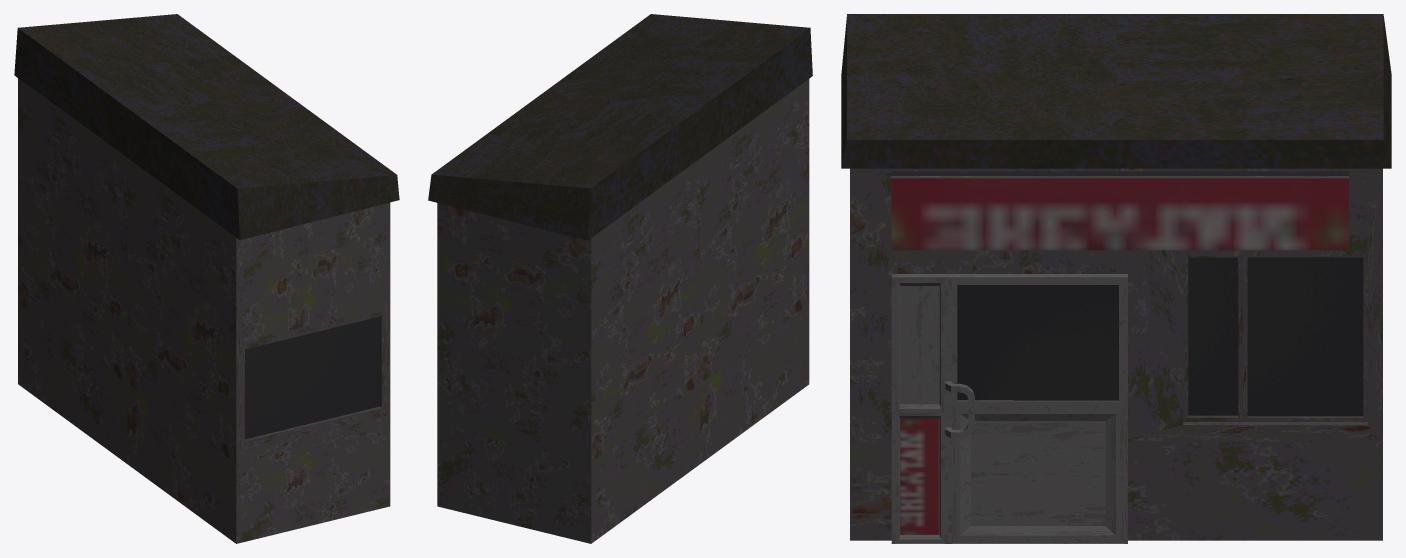
Rendered from StreetEnvirenment1.fbx.
3 renders of one model, left to right at view 1: azimuth 30°, elevation 25°; view 2: azimuth 150°, elevation 25°; view 3: azimuth 270°, elevation 25°, orthographic. The views are drawn at different scales.
Visible parts, largest first — view 1: Shop; view 2: Shop; view 3: Shop, ShopDoor.
Boxes of the visible parts, x1,y1,x2,y2 form: Shop: (14, 14, 399, 543); Shop: (428, 14, 812, 543); Shop: (841, 14, 1391, 540); ShopDoor: (891, 274, 1127, 543).
Bounding box in the file's own units: 224 × 452 × 518.
